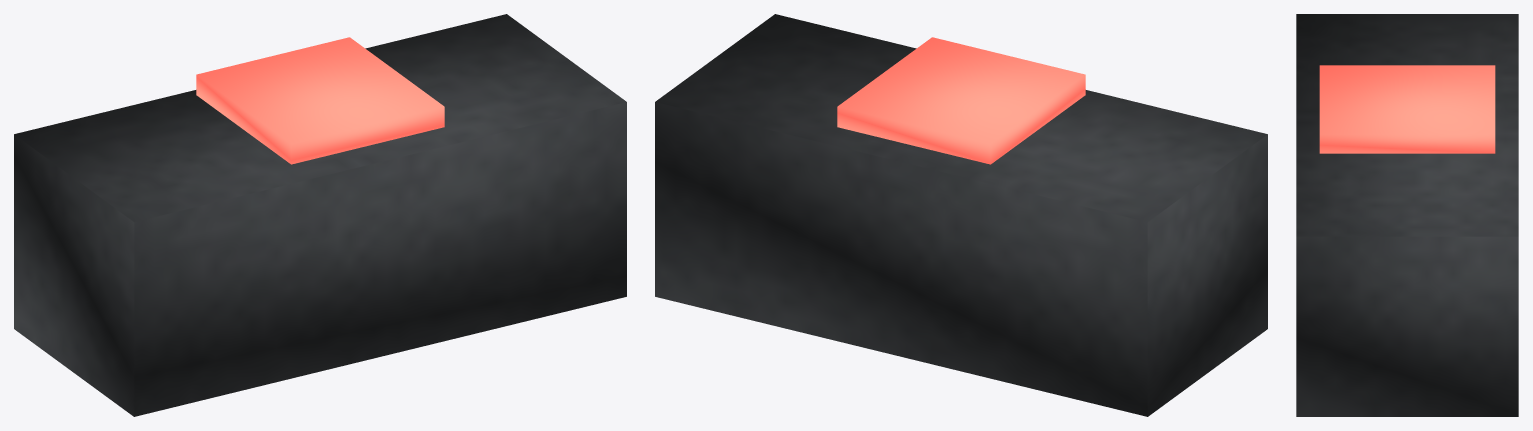
The model's file is pack.agentspace.vehicle.emergency.01.glb.
3 renders of one model, left to right at view 1: azimuth 30°, elevation 25°; view 2: azimuth 150°, elevation 25°; view 3: azimuth 270°, elevation 25°, orthographic. The views are drawn at different scales.
Parts seen in each view (by area): view 1: pack.agentspace.vehicle.emergency.01.body, pack.agentspace.vehicle.emergency.01.bar; view 2: pack.agentspace.vehicle.emergency.01.body, pack.agentspace.vehicle.emergency.01.bar; view 3: pack.agentspace.vehicle.emergency.01.body, pack.agentspace.vehicle.emergency.01.bar.
Part boxes in pixels (bbox=[...]): pack.agentspace.vehicle.emergency.01.body: bbox=[14, 14, 626, 416]; pack.agentspace.vehicle.emergency.01.bar: bbox=[196, 37, 444, 164]; pack.agentspace.vehicle.emergency.01.body: bbox=[655, 14, 1267, 416]; pack.agentspace.vehicle.emergency.01.bar: bbox=[837, 37, 1085, 164]; pack.agentspace.vehicle.emergency.01.body: bbox=[1296, 14, 1518, 416]; pack.agentspace.vehicle.emergency.01.bar: bbox=[1319, 65, 1495, 153].
Bounding box in the file's own units: 4.5 × 1.94 × 1.9.
2 materials, 1 textured.
